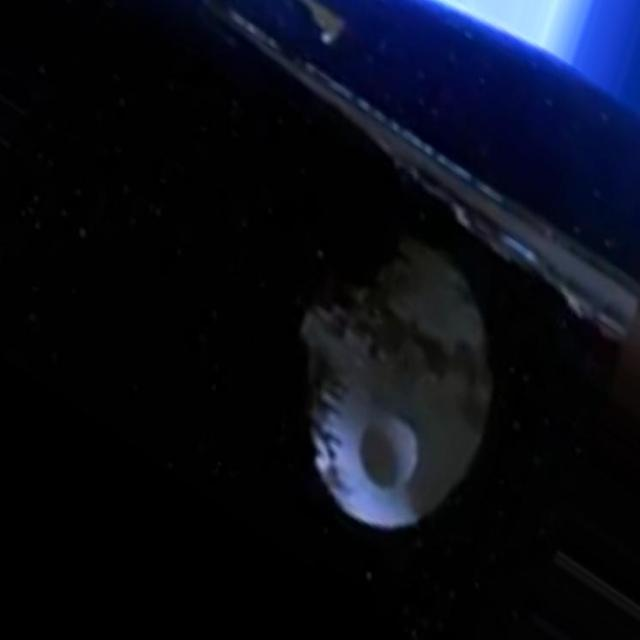deathstar: (302, 238, 492, 528)
